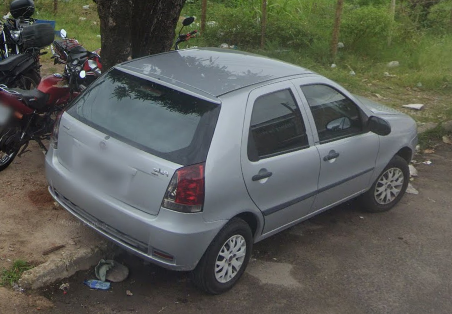car: (39, 46, 420, 297)
